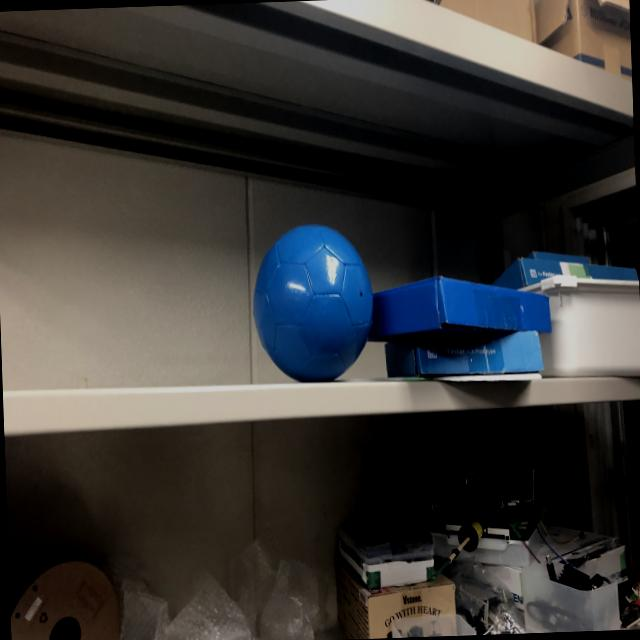blue_ball: (254, 222, 382, 378)
